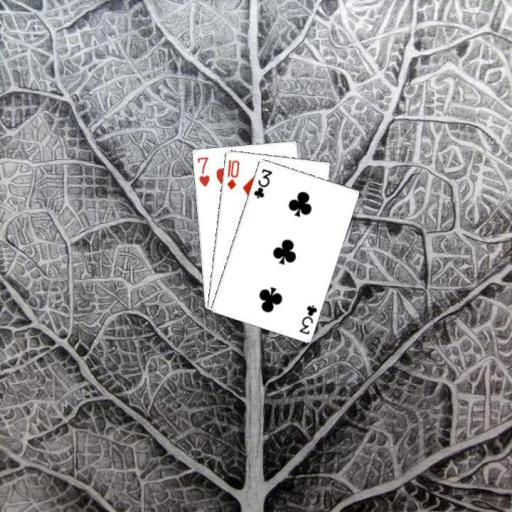10D: (224, 157, 240, 191)
3C: (250, 165, 274, 200), (296, 302, 319, 336)
7H: (194, 154, 211, 188)
